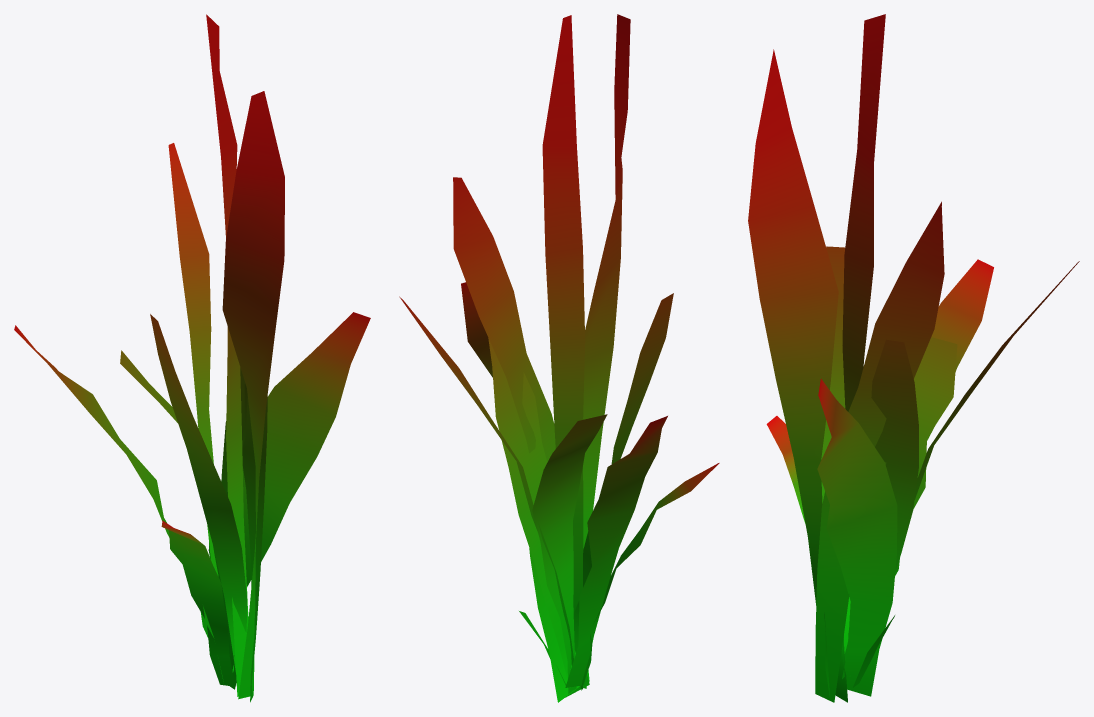
File: Snake Plant_LOD2_Var5_sgtmY.fbx
3 views of the same model, side by side, from view 1: azimuth 30°, elevation 25°; view 2: azimuth 150°, elevation 25°; view 3: azimuth 270°, elevation 25° (orthographic). The views are drawn at different scales.
Visible parts, largest first — view 1: _fdaf_Var5_LOD2; view 2: _fdaf_Var5_LOD2; view 3: _fdaf_Var5_LOD2.
Part boxes in pixels (x1,y1,x2,y2): _fdaf_Var5_LOD2: (14, 14, 370, 702); _fdaf_Var5_LOD2: (399, 14, 719, 702); _fdaf_Var5_LOD2: (748, 14, 1079, 702).
Bounding box in the file's own units: 53.6 × 124 × 54.59.
